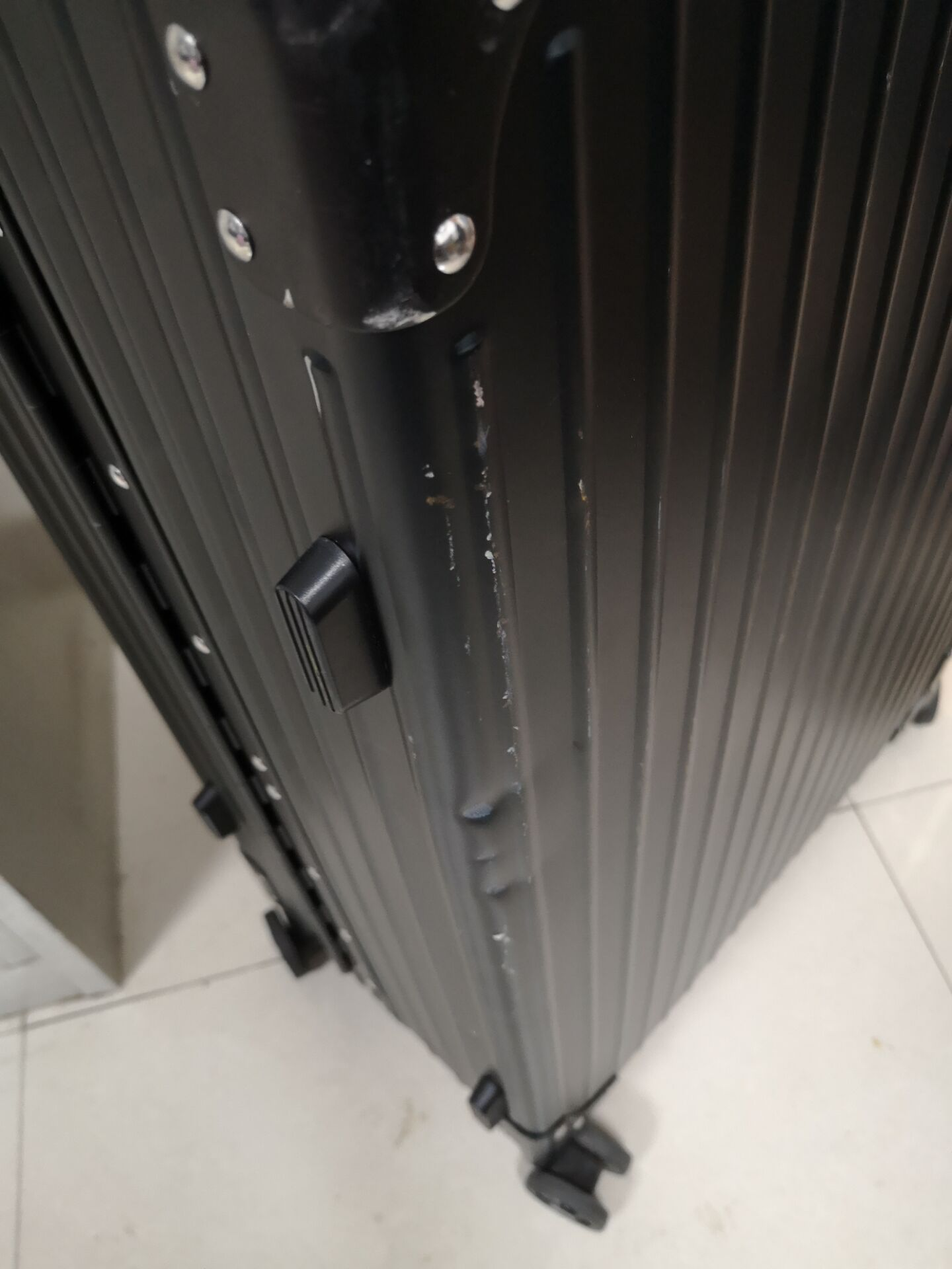rupture: (454, 791, 507, 826), (486, 881, 516, 900)
